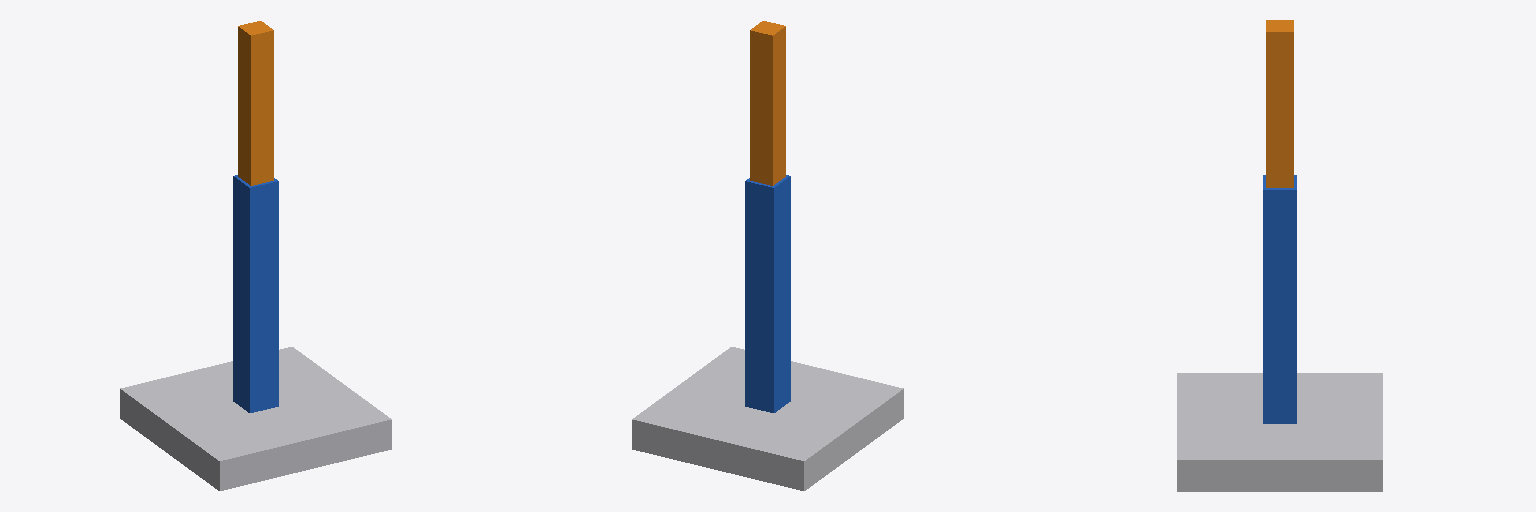
robot.urdf — freecad_demo_arm:
<?xml version="1.0"?>
<robot name="freecad_demo_arm">
  <link name="base_link">
    <visual>
      <origin xyz="0 0 0" rpy="0 0 0" />
      <geometry>
        <mesh filename="package://freecad_demo_arm_description/meshes/base.stl" scale="0.001 0.001 0.001" />
      </geometry>
      <material name="base_link_material">
        <color rgba="0.8 0.8 0.82 1" />
      </material>
    </visual>
    <collision>
      <origin xyz="0 0 0.01" rpy="0 0 0" />
      <geometry>
        <box size="0.12 0.12 0.02" />
      </geometry>
    </collision>
    <inertial>
      <origin xyz="0 0 0.01" rpy="0 0 0" />
      <mass value="0.7776" />
      <inertia ixx="0.00095904" ixy="0" ixz="0" iyy="0.00095904" iyz="0" izz="0.00186624" />
    </inertial>
  </link>
  <link name="arm1_link">
    <visual>
      <origin xyz="0 0 -0.02" rpy="0 0 0" />
      <geometry>
        <mesh filename="package://freecad_demo_arm_description/meshes/arm1.stl" scale="0.001 0.001 0.001" />
      </geometry>
      <material name="arm1_link_material">
        <color rgba="0.2 0.45 0.8 1" />
      </material>
    </visual>
    <collision>
      <origin xyz="0 0 0.075" rpy="0 0 0" />
      <geometry>
        <box size="0.02 0.02 0.15" />
      </geometry>
    </collision>
    <inertial>
      <origin xyz="0 0 0.075" rpy="0 0 0" />
      <mass value="0.162" />
      <inertia ixx="0.00030915" ixy="0" ixz="0" iyy="0.00030915" iyz="0" izz="1.08e-05" />
    </inertial>
  </link>
  <link name="arm2_link">
    <visual>
      <origin xyz="0 0 -0.17" rpy="0 0 0" />
      <geometry>
        <mesh filename="package://freecad_demo_arm_description/meshes/arm2.stl" scale="0.001 0.001 0.001" />
      </geometry>
      <material name="arm2_link_material">
        <color rgba="0.9 0.55 0.15 1" />
      </material>
    </visual>
    <collision>
      <origin xyz="0 0 0.05" rpy="0 0 0" />
      <geometry>
        <box size="0.016 0.016 0.1" />
      </geometry>
    </collision>
    <inertial>
      <origin xyz="0 0 0.05" rpy="0 0 0" />
      <mass value="0.06912" />
      <inertia ixx="5.907456e-05" ixy="0" ixz="0" iyy="5.907456e-05" iyz="0" izz="2.94912e-06" />
    </inertial>
  </link>
  <joint name="shoulder_joint" type="revolute">
    <parent link="base_link" />
    <child link="arm1_link" />
    <origin xyz="0 0 0.02" rpy="0 0 0" />
    <axis xyz="0 1 0" />
    <limit effort="10" velocity="2" lower="-1.57" upper="1.57" />
  </joint>
  <joint name="elbow_joint" type="revolute">
    <parent link="arm1_link" />
    <child link="arm2_link" />
    <origin xyz="0 0 0.15" rpy="0 0 0" />
    <axis xyz="0 1 0" />
    <limit effort="10" velocity="2" lower="-1.57" upper="1.57" />
  </joint>
</robot>

--- Render facts (derived) ---
The picture shows the robot from 3 angles, left to right: view 1: azimuth 30°, elevation 25°; view 2: azimuth 150°, elevation 25°; view 3: azimuth 270°, elevation 25°; orthographic projection.
Robot: freecad_demo_arm — 3 links, 2 joints (2 revolute); root link base_link; default pose: all joints at 0.
Links seen in each view (by area): view 1: base_link, arm1_link, arm2_link; view 2: base_link, arm1_link, arm2_link; view 3: base_link, arm1_link, arm2_link.
Boxes of the visible links, x1=… form: base_link: x1=120, y1=347, x2=391, y2=490; arm1_link: x1=233, y1=175, x2=278, y2=412; arm2_link: x1=238, y1=21, x2=273, y2=185; base_link: x1=632, y1=347, x2=903, y2=490; arm1_link: x1=745, y1=175, x2=790, y2=412; arm2_link: x1=750, y1=21, x2=785, y2=185; base_link: x1=1177, y1=373, x2=1382, y2=491; arm1_link: x1=1263, y1=175, x2=1296, y2=423; arm2_link: x1=1266, y1=20, x2=1293, y2=187.
Bounding box of the posed robot: 0.12 × 0.12 × 0.27 m (x, y, z).
Meshes: 3 distinct files referenced, 3 mesh visuals loaded (3 binary STL).
